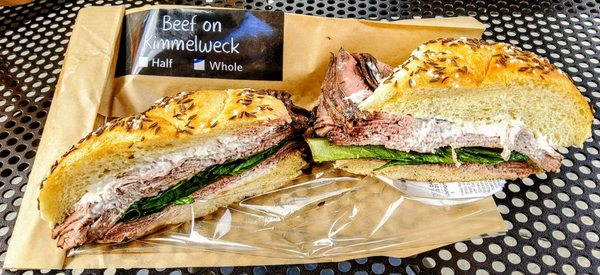soup: (38, 87, 314, 253), (306, 35, 596, 182)
